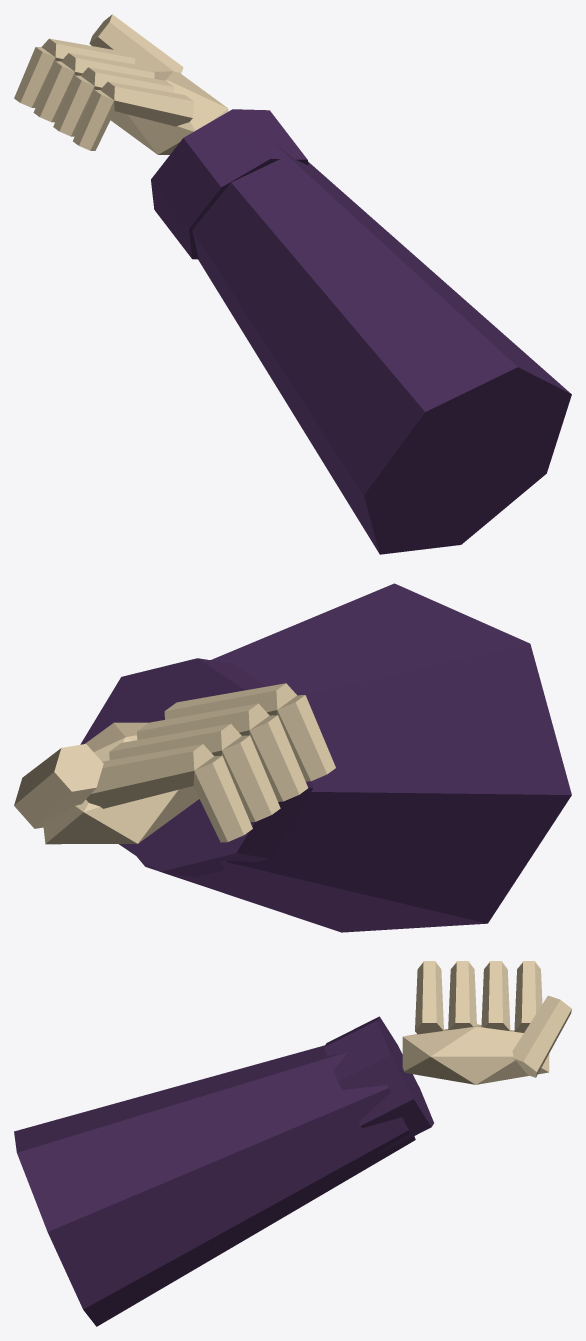
File: RightHand.fbx
3 renders of one model, top to bottom at view 1: azimuth 30°, elevation 25°; view 2: azimuth 150°, elevation 25°; view 3: azimuth 270°, elevation 25°, orthographic. The views are drawn at different scales.
Parts seen in each view (by area): view 1: Sleeve, Cuff, Palm, Finger3, Thumb, Fingertip3, Fingertip1, Fingertip2, Fingertip0, Finger1, Finger2, Finger0; view 2: Sleeve, Cuff, Palm, Finger0, Thumb, Fingertip0, Fingertip2, Fingertip1, Fingertip3, Finger3, Finger2, Finger1; view 3: Sleeve, Cuff, Palm, Thumb, Finger3, Finger1, Finger2, Finger0.
Part boxes in pixels (<box>): Sleeve: <box>192,142,571,554</box>; Cuff: <box>151,109,308,259</box>; Palm: <box>110,71,228,154</box>; Finger3: <box>100,81,193,126</box>; Thumb: <box>89,14,183,73</box>; Fingertip3: <box>73,89,114,150</box>; Fingertip1: <box>33,61,75,122</box>; Fingertip2: <box>53,75,94,136</box>; Fingertip0: <box>14,47,55,107</box>; Finger1: <box>61,53,154,78</box>; Finger2: <box>80,67,174,92</box>; Finger0: <box>41,38,134,64</box>; Sleeve: <box>137,583,571,932</box>; Cuff: <box>80,658,313,877</box>; Palm: <box>43,722,199,844</box>; Finger0: <box>86,744,213,808</box>; Thumb: <box>14,744,103,828</box>; Fingertip0: <box>193,755,252,842</box>; Fingertip2: <box>249,715,307,801</box>; Fingertip1: <box>221,735,280,821</box>; Fingertip3: <box>277,695,335,781</box>; Finger3: <box>164,683,296,719</box>; Finger2: <box>137,703,269,739</box>; Finger1: <box>109,723,241,760</box>; Sleeve: <box>14,1045,415,1326</box>; Cuff: <box>324,1016,433,1153</box>; Palm: <box>402,1024,549,1084</box>; Thumb: <box>512,995,571,1077</box>; Finger3: <box>415,962,443,1034</box>; Finger1: <box>481,962,510,1030</box>; Finger2: <box>448,962,476,1029</box>; Finger0: <box>514,962,542,1032</box>.
Size of the model in its own units: 0.2001 by 0.2501 by 0.4204.
